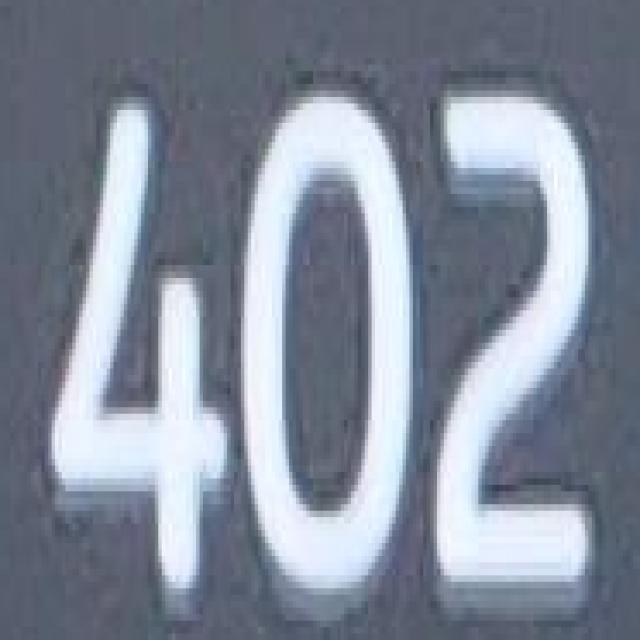character: (42, 82, 232, 594), (238, 81, 417, 608), (430, 81, 600, 619)
